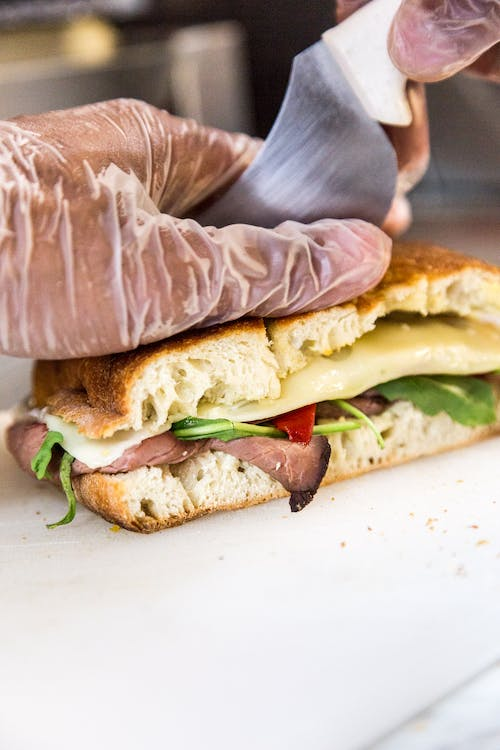knife: (186, 0, 416, 231)
